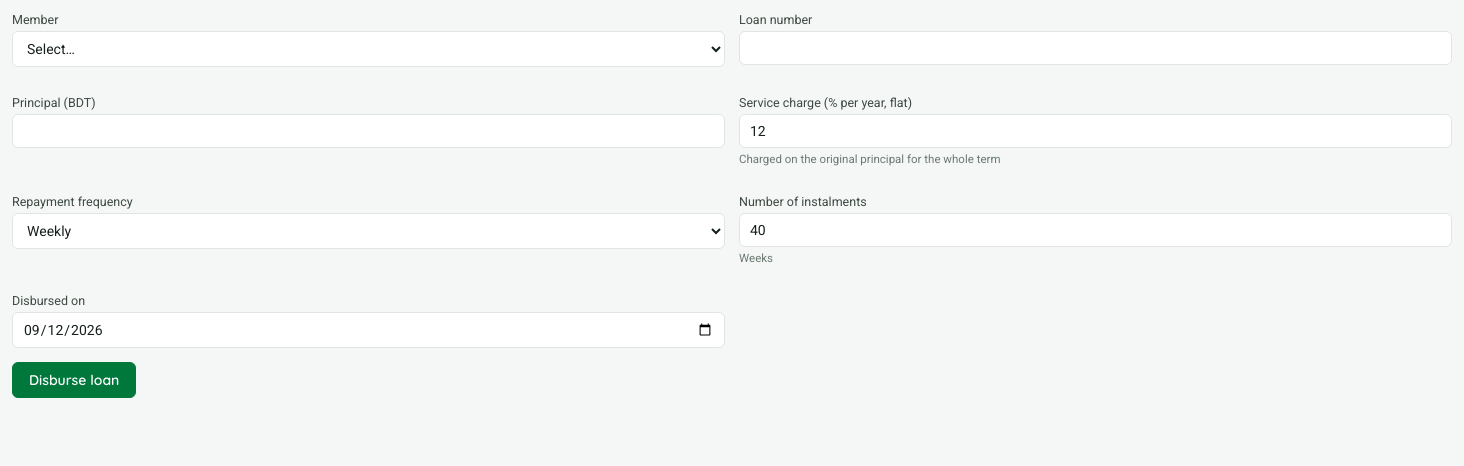
Test: DisburseLoanForm › surfaces a rejected loan number rather than silently doing nothing
The width and height of the screenshot is (1464, 466).
Select "M-0001 · Rahima Begum" in the dropdown labelled "Member" at {"x": 368, "y": 49}, box top-left (12, 31), bottom-right (725, 67)
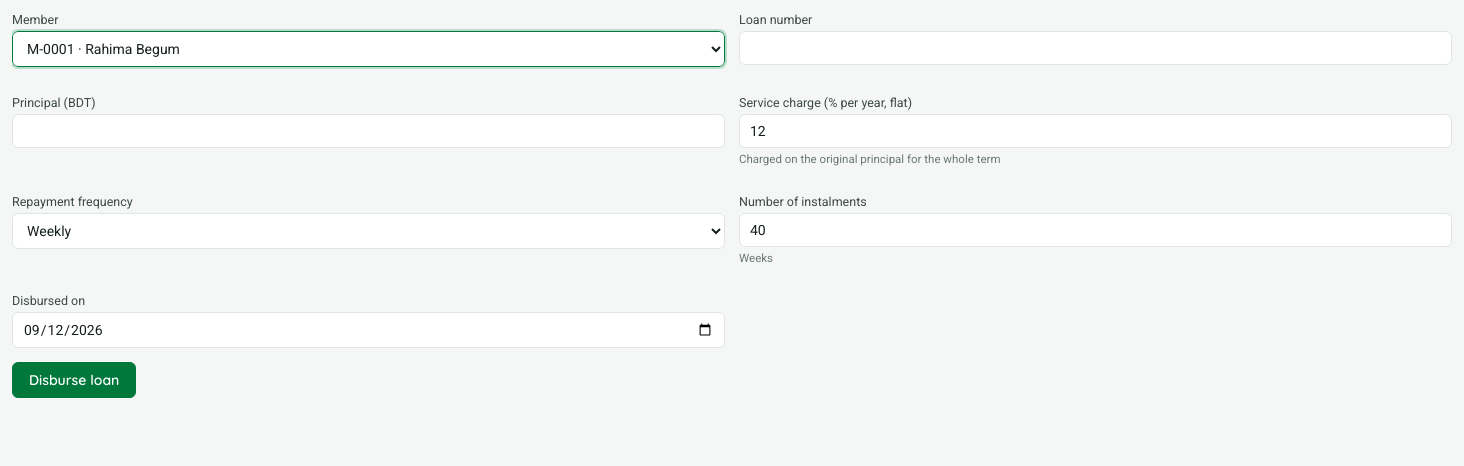
Type "L-2026-0001" into the field labelled "Loan number" at {"x": 1096, "y": 48}, box top-left (739, 31), bottom-right (1452, 65)
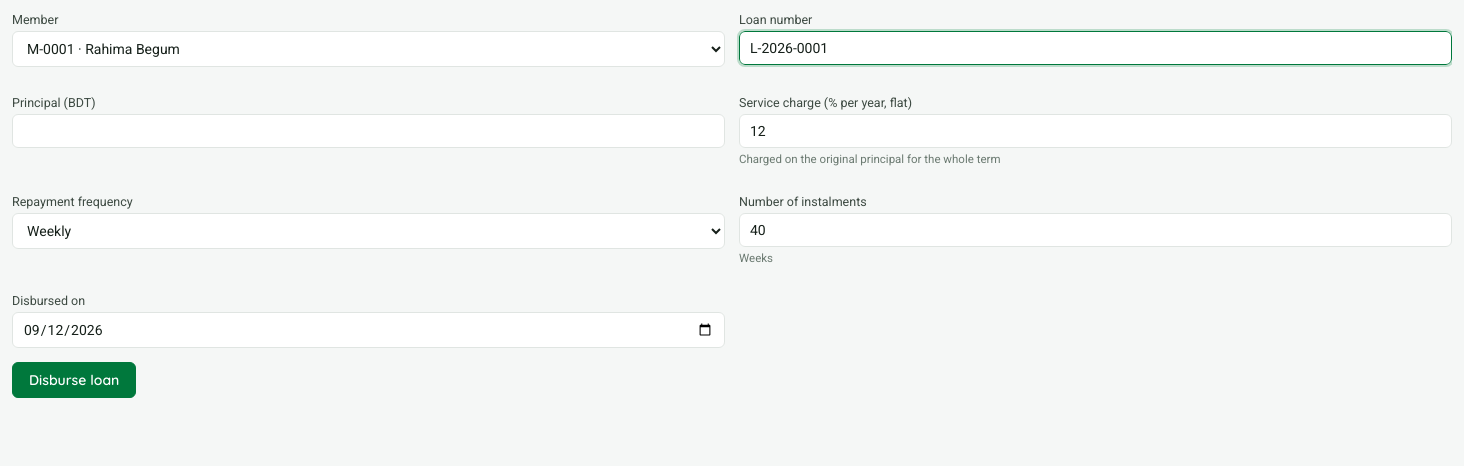
Type "30000" into the field labelled "Principal (BDT)" at {"x": 368, "y": 131}, box top-left (12, 114), bottom-right (725, 148)
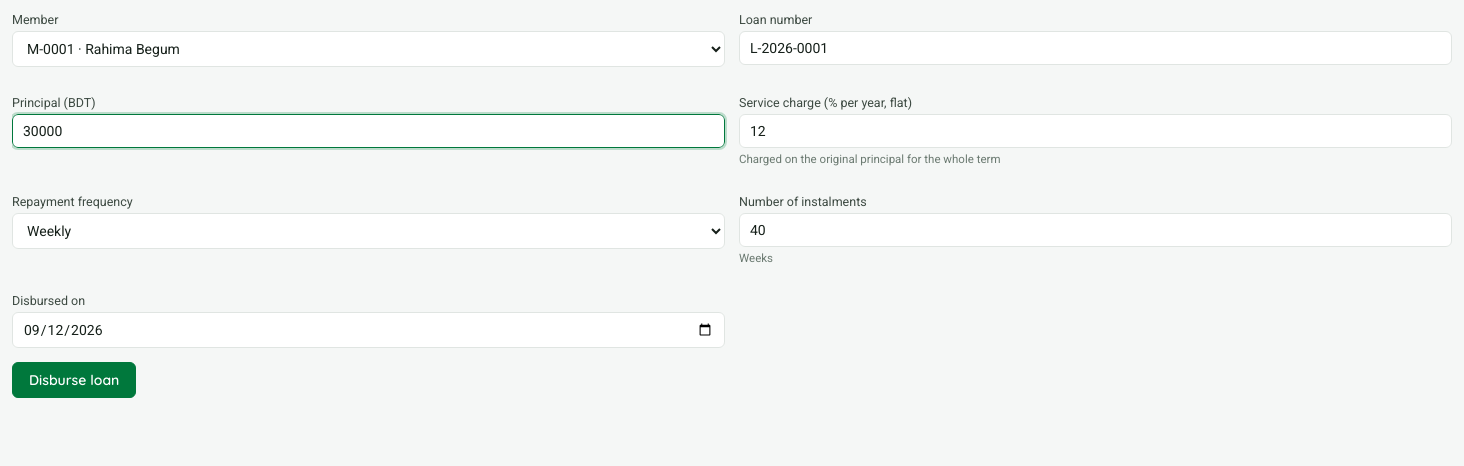
Click the button "Disburse loan" at {"x": 74, "y": 380}, box top-left (12, 362), bottom-right (136, 398)
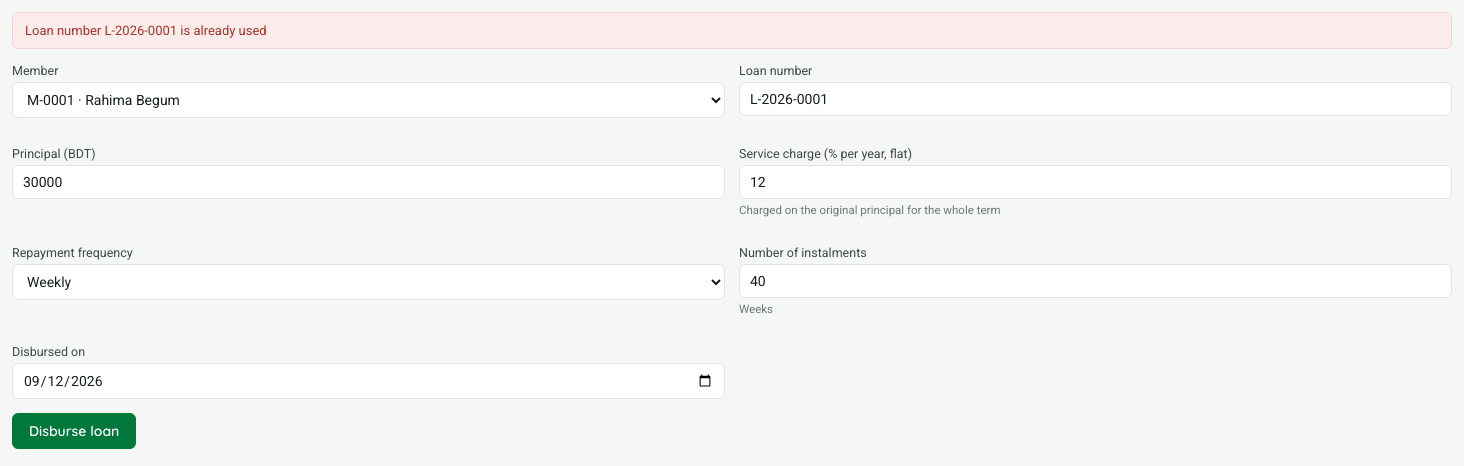
Now the message shows "already used", box top-left (25, 23), bottom-right (267, 38)
